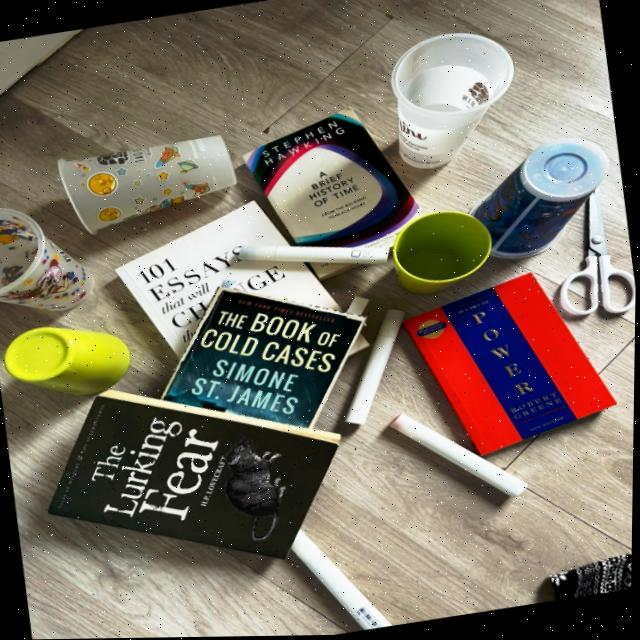Book: (51, 389, 342, 558), (404, 273, 609, 457), (116, 200, 340, 359), (236, 106, 429, 278), (158, 286, 368, 430)
HighLight Pen: (392, 415, 530, 498), (293, 530, 389, 630), (346, 310, 407, 423), (240, 243, 390, 261)
Plastic Cup: (57, 136, 237, 235), (468, 172, 603, 262), (394, 37, 511, 112), (0, 236, 96, 310), (397, 98, 493, 167), (520, 141, 611, 193), (0, 209, 46, 289)
Scissors: (561, 191, 637, 320)
WaterGlass: (395, 213, 490, 294), (22, 329, 128, 396)
